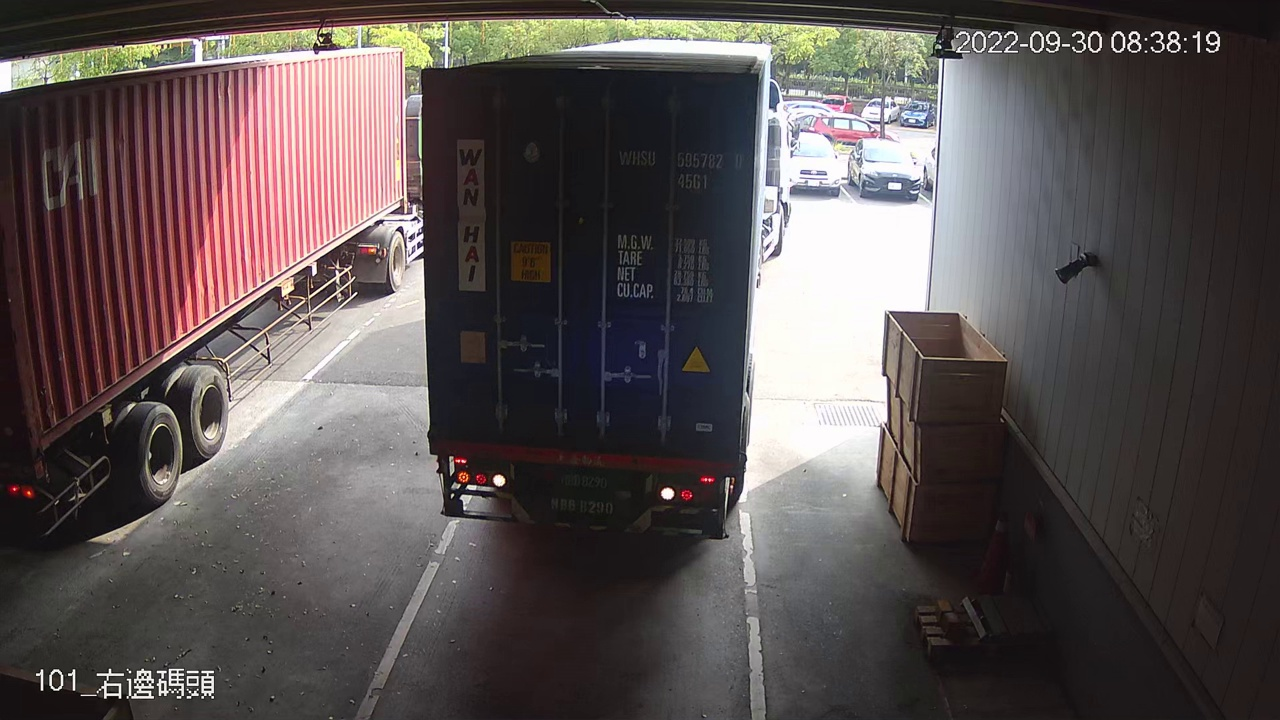container: (614, 141, 748, 195)
